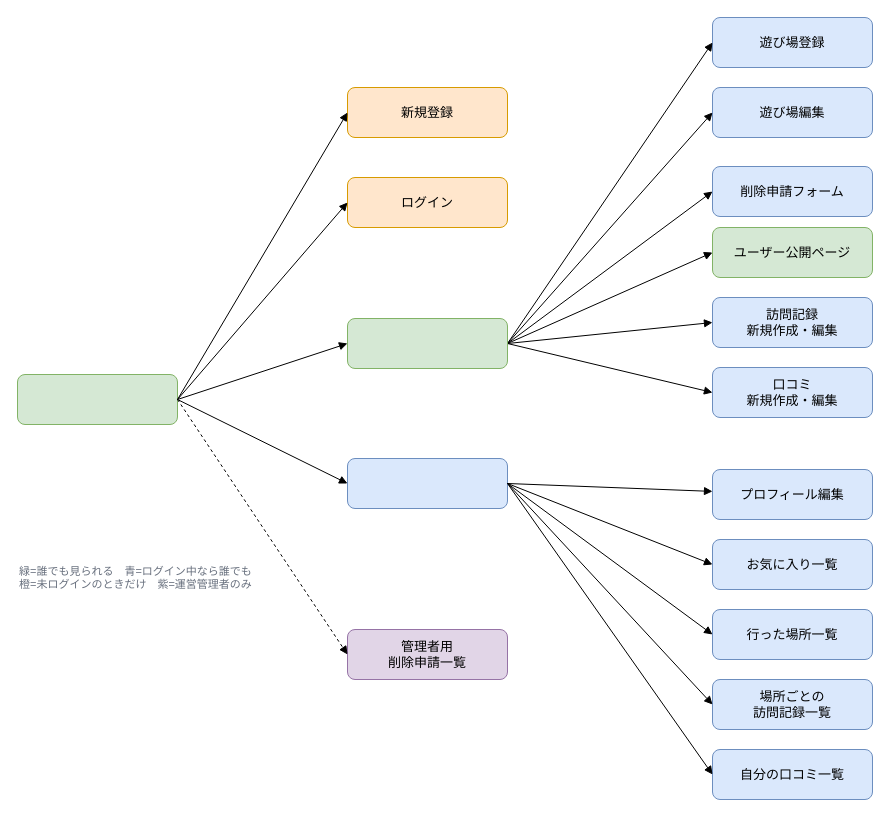
The diagram is 890 pixels wide and 817 high, and some of its shapes have lost their labels. Each missing label, with the box of its shape:
マイページ: (346, 458, 508, 508)
遊び場一覧: (16, 374, 178, 424)
遊び場詳細: (346, 318, 508, 368)
